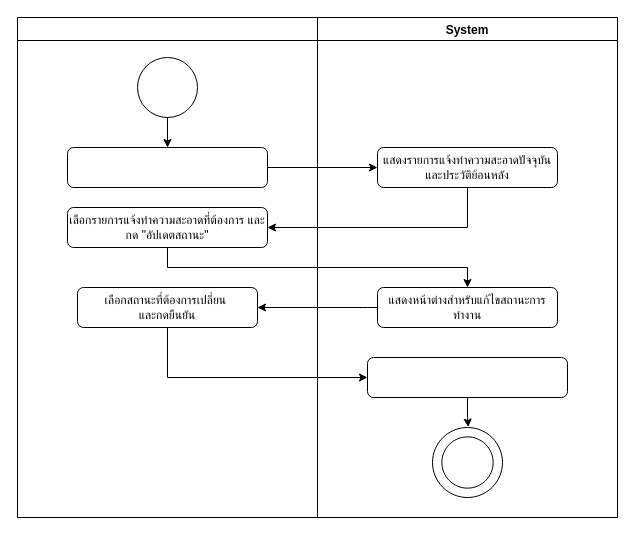
Some shapes in this 635 by 535 pixel diagram are drawn without their labels. Here are the shapes that lost their labels. From the top down, the box of each, then its label:
(66, 146, 268, 188): เลือกเมนู "แจ้งทำความสะอาด"
(16, 16, 318, 518): Actor
(366, 356, 568, 398): บันทึกสถานะใหม่ลงฐานข้อมูล และขึ้น Modal "อัปเดตสถานะสำเร็จ"
